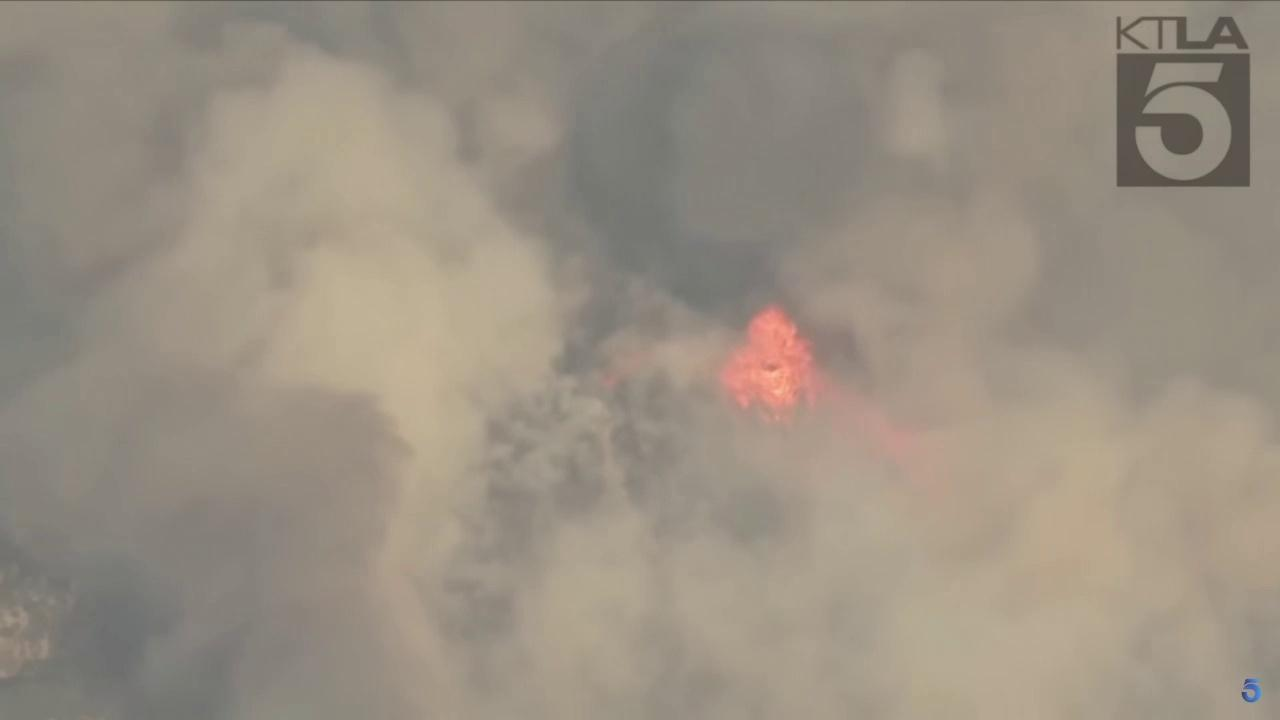fire: (716, 300, 838, 426)
smoke: (0, 0, 1280, 720)
